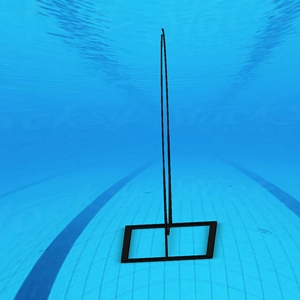circle: (118, 27, 220, 265)
